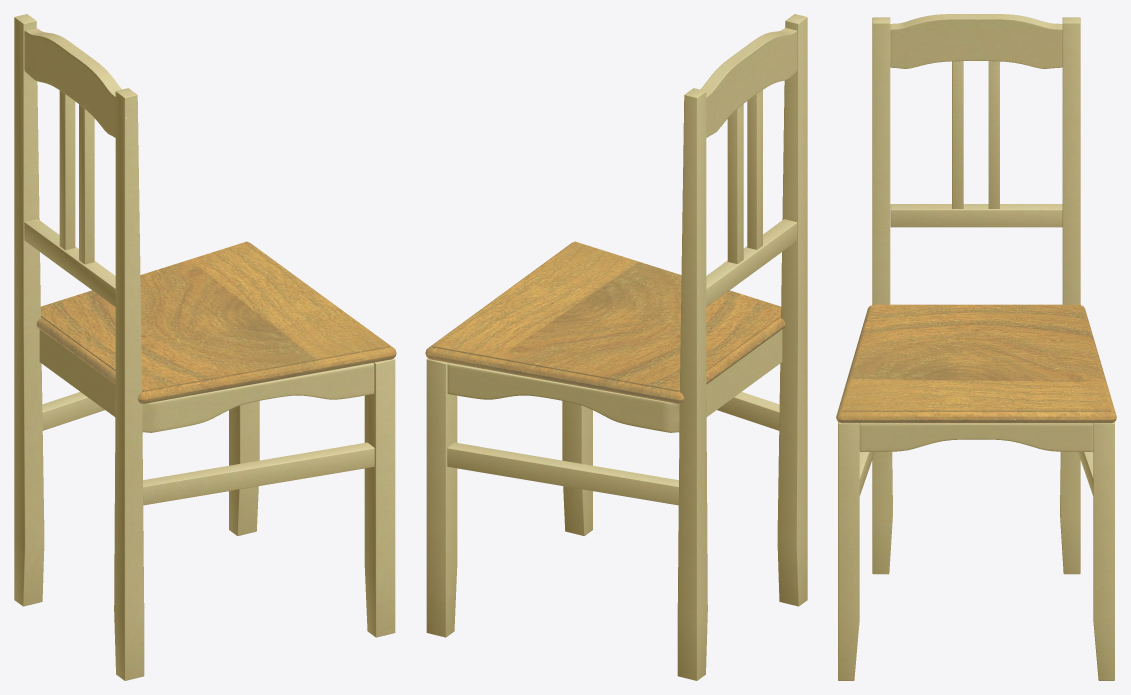
The picture shows the model from 3 angles, left to right: view 1: azimuth 30°, elevation 25°; view 2: azimuth 150°, elevation 25°; view 3: azimuth 270°, elevation 25°; orthographic projection. The views are drawn at different scales.
Parts seen in each view (by area): view 1: Cube_2, сидушка; view 2: Cube_2, сидушка; view 3: Cube_2, сидушка.
Boxes of the visible parts, x1,y1,x2,y2 form: Cube_2: (14, 14, 395, 680); сидушка: (36, 241, 396, 403); Cube_2: (426, 14, 807, 680); сидушка: (425, 241, 785, 403); Cube_2: (838, 14, 1114, 680); сидушка: (836, 304, 1116, 423).
Bounding box in the file's own units: 0.4529 × 0.9973 × 0.46.
2 materials, 2 textured.
